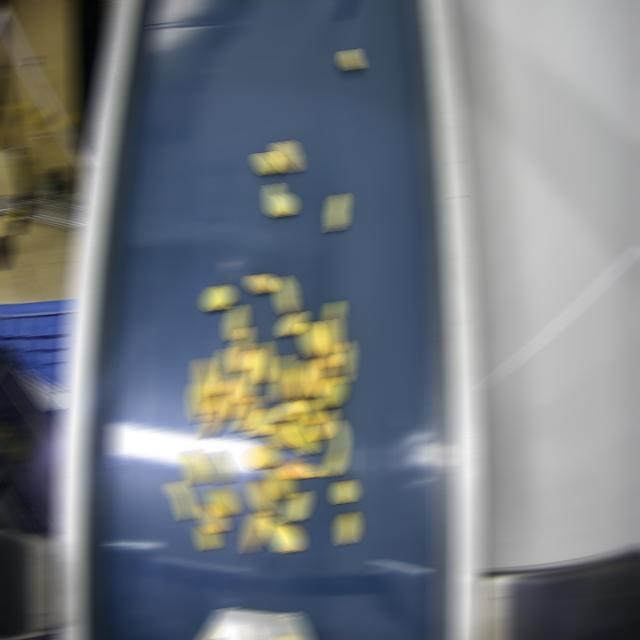Baby Potato: (262, 517, 301, 552), (235, 350, 260, 403), (286, 413, 317, 455), (325, 420, 346, 477), (167, 480, 194, 519), (196, 357, 215, 412), (202, 396, 227, 437), (211, 347, 232, 395), (318, 320, 339, 367), (244, 511, 267, 553), (250, 480, 275, 516), (272, 354, 291, 401), (267, 183, 294, 216), (235, 396, 260, 431), (272, 141, 299, 173), (231, 327, 250, 372), (300, 321, 323, 358), (246, 408, 275, 437), (207, 452, 232, 485), (280, 459, 321, 479), (207, 488, 236, 516), (267, 467, 292, 499), (311, 355, 330, 397), (222, 378, 241, 419), (297, 358, 316, 399), (319, 377, 344, 408), (199, 504, 226, 532), (204, 285, 233, 311), (326, 301, 341, 351), (285, 491, 308, 523), (185, 450, 206, 485), (249, 444, 278, 469), (255, 341, 272, 383), (276, 276, 295, 313), (226, 304, 245, 340), (313, 409, 334, 440), (267, 424, 294, 448), (329, 193, 346, 231), (276, 399, 305, 421), (336, 341, 351, 383), (338, 512, 357, 544), (190, 383, 205, 423), (280, 312, 305, 336), (247, 273, 274, 294), (256, 152, 279, 175), (286, 368, 303, 399), (198, 524, 217, 550), (334, 480, 355, 503), (302, 399, 321, 424), (341, 49, 360, 71)
